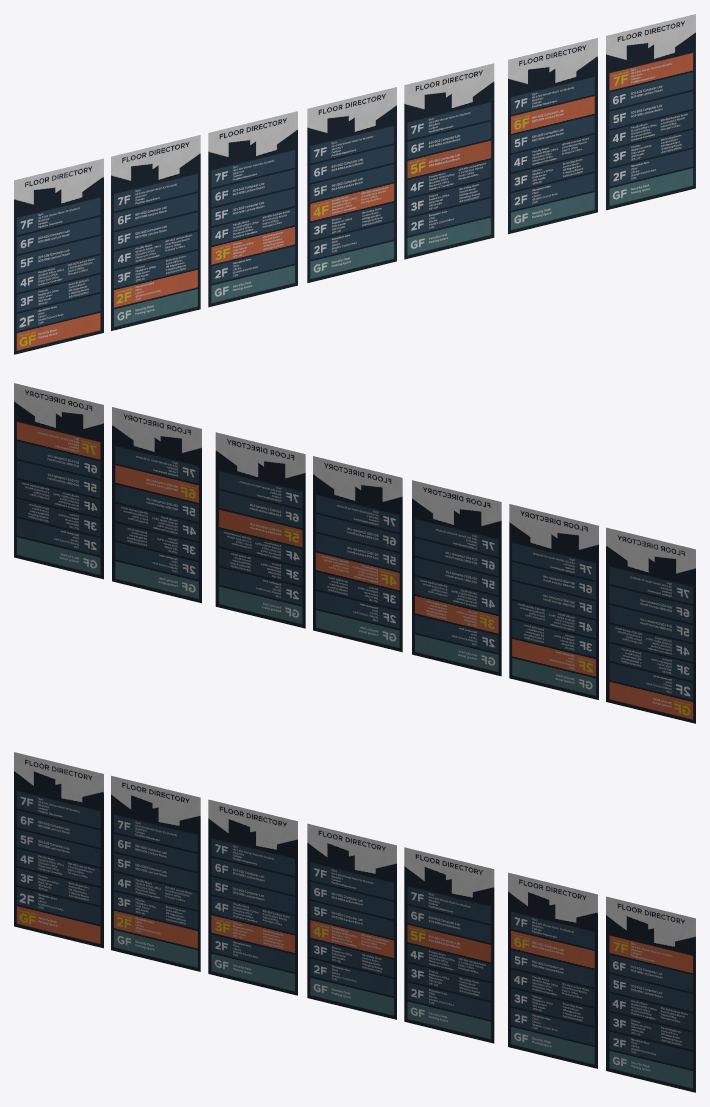
The model's file is FloorDirectoryPoster.fbx.
3 renders of one model, top to bottom at view 1: azimuth 30°, elevation 25°; view 2: azimuth 150°, elevation 25°; view 3: azimuth 330°, elevation 25°, orthographic.
Visible parts, largest first — view 1: FloorDirectory2.003, FloorDirectory2.001, FloorDirectory2.004, FloorDirectory2, FloorDirectory1, FloorDirectory2.002, FloorDirectory2.005; view 2: FloorDirectory2.003, FloorDirectory2.001, FloorDirectory2.004, FloorDirectory2, FloorDirectory1, FloorDirectory2.002, FloorDirectory2.005; view 3: FloorDirectory2.003, FloorDirectory2.001, FloorDirectory2.004, FloorDirectory2, FloorDirectory1, FloorDirectory2.002, FloorDirectory2.005.
Part boxes in pixels (x1,y1,x2,y2): FloorDirectory2.003: [404, 63, 494, 259]; FloorDirectory2.001: [208, 111, 297, 307]; FloorDirectory2.004: [508, 38, 597, 234]; FloorDirectory2: [111, 135, 200, 330]; FloorDirectory1: [14, 158, 103, 354]; FloorDirectory2.002: [307, 87, 396, 283]; FloorDirectory2.005: [606, 14, 695, 210]; FloorDirectory2.003: [215, 432, 305, 628]; FloorDirectory2.001: [412, 480, 501, 676]; FloorDirectory2.004: [112, 407, 201, 603]; FloorDirectory2: [509, 504, 598, 699]; FloorDirectory1: [606, 527, 695, 723]; FloorDirectory2.002: [313, 456, 402, 652]; FloorDirectory2.005: [14, 383, 103, 579]; FloorDirectory2.003: [404, 847, 494, 1043]; FloorDirectory2.001: [208, 799, 297, 995]; FloorDirectory2.004: [508, 872, 597, 1068]; FloorDirectory2: [111, 776, 200, 971]; FloorDirectory1: [14, 752, 103, 948]; FloorDirectory2.002: [307, 823, 396, 1019]; FloorDirectory2.005: [606, 896, 695, 1092].
Bounding box in the file's own units: 409 × 100 × 1.19e-05.
